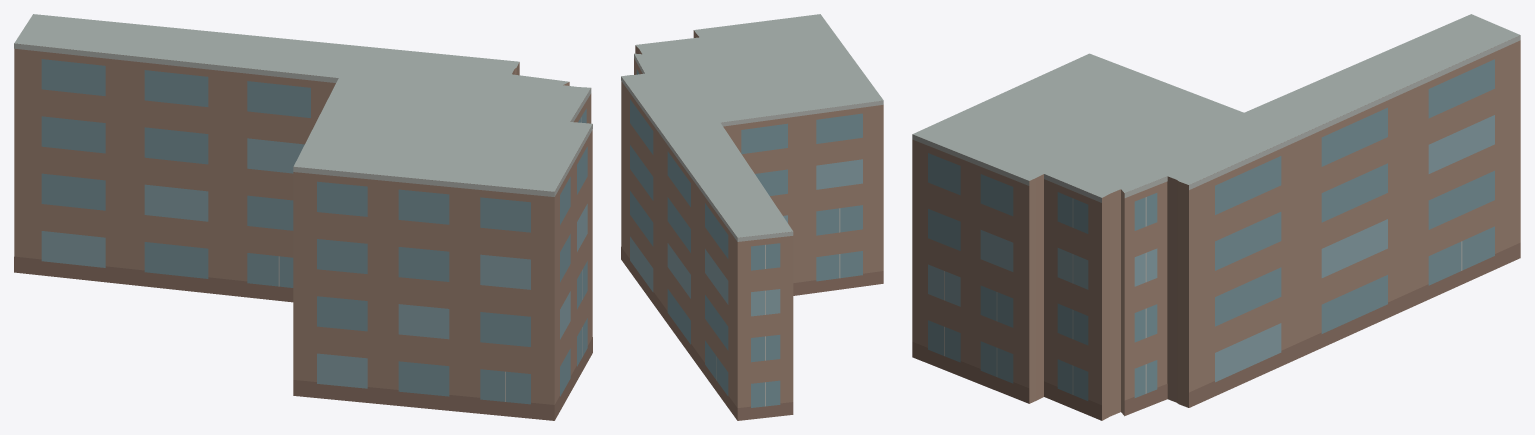
File: survey-upis-32956348.glb
3 renders of one model, left to right at view 1: azimuth 30°, elevation 25°; view 2: azimuth 150°, elevation 25°; view 3: azimuth 270°, elevation 25°, orthographic. The views are drawn at different scales.
Visible parts, largest first — view 1: survey-upis-32956348.tmp; view 2: survey-upis-32956348.tmp; view 3: survey-upis-32956348.tmp.
Part boxes in pixels (x1=…): survey-upis-32956348.tmp: x1=14, y1=14, x2=592, y2=420; survey-upis-32956348.tmp: x1=621, y1=14, x2=883, y2=420; survey-upis-32956348.tmp: x1=912, y1=14, x2=1520, y2=420.
Size of the model in its own units: 18.68 by 10.55 by 26.1.
